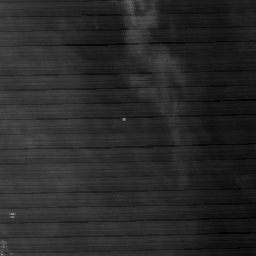Target: (121, 117, 128, 123)
